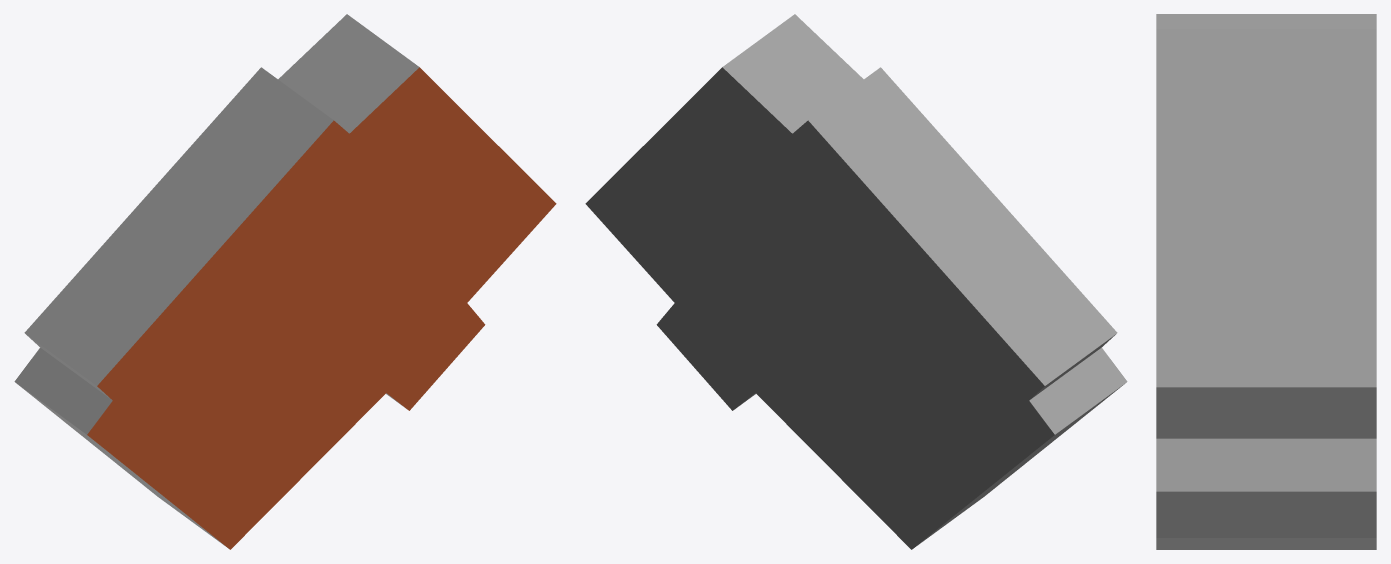
File: construction_1888_assumed_A_Casa_h6m.obj
3 views of the same model, side by side, from view 1: azimuth 30°, elevation 25°; view 2: azimuth 150°, elevation 25°; view 3: azimuth 270°, elevation 25° (orthographic). The views are drawn at different scales.
Visible parts, largest first — view 1: construction_1888_assumed_A_Casa; view 2: construction_1888_assumed_A_Casa; view 3: construction_1888_assumed_A_Casa.
Part boxes in pixels (x1,y1,x2,y2): construction_1888_assumed_A_Casa: [14, 14, 556, 549]; construction_1888_assumed_A_Casa: [585, 14, 1127, 549]; construction_1888_assumed_A_Casa: [1156, 14, 1376, 549].
Bounding box in the file's own units: 22.39 × 19.89 × 6.
